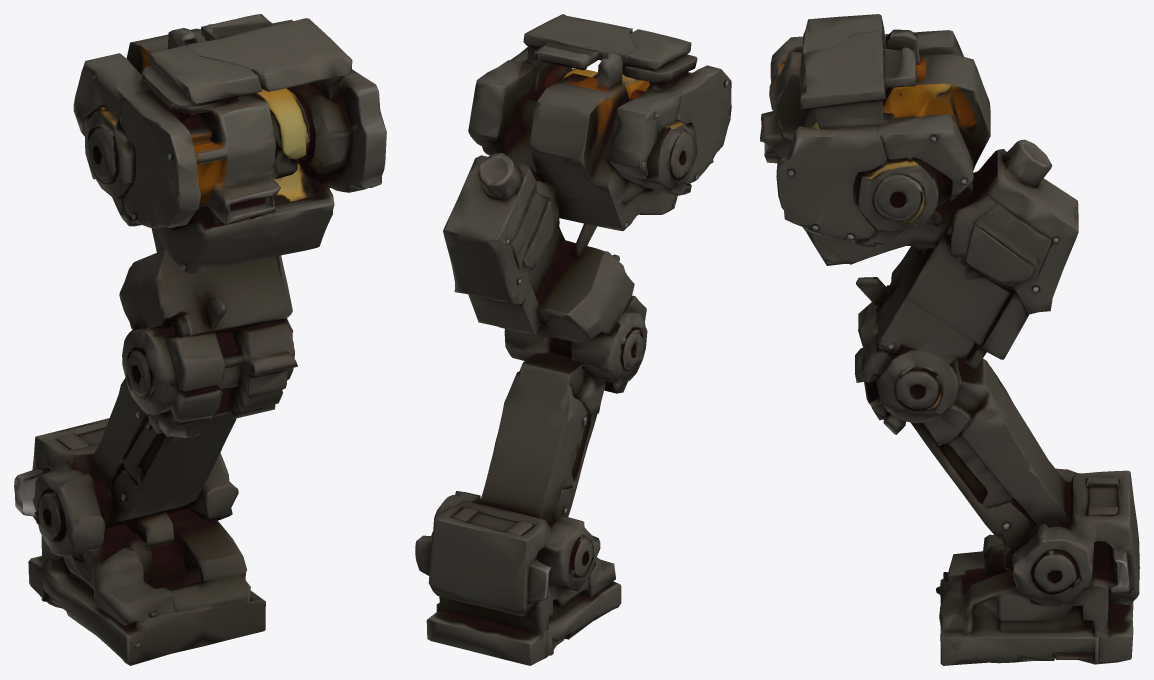
Rendered from arm_standard.glb.
The picture shows the model from 3 angles, left to right: view 1: azimuth 30°, elevation 25°; view 2: azimuth 150°, elevation 25°; view 3: azimuth 270°, elevation 25°; orthographic projection. The views are drawn at different scales.
Parts seen in each view (by area): view 1: tripo_node_c7c63175-3626-4db4-a2ce-3ad051446888; view 2: tripo_node_c7c63175-3626-4db4-a2ce-3ad051446888; view 3: tripo_node_c7c63175-3626-4db4-a2ce-3ad051446888.
Part boxes in pixels (x1=…): tripo_node_c7c63175-3626-4db4-a2ce-3ad051446888: x1=14, y1=14, x2=386, y2=665; tripo_node_c7c63175-3626-4db4-a2ce-3ad051446888: x1=415, y1=14, x2=731, y2=665; tripo_node_c7c63175-3626-4db4-a2ce-3ad051446888: x1=760, y1=14, x2=1139, y2=665.
Bounding box in the file's own units: 0.384 × 1 × 0.5841.
1 material, 1 textured.
